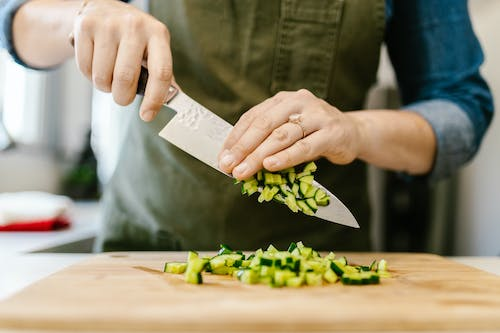knife: (65, 29, 363, 230)
